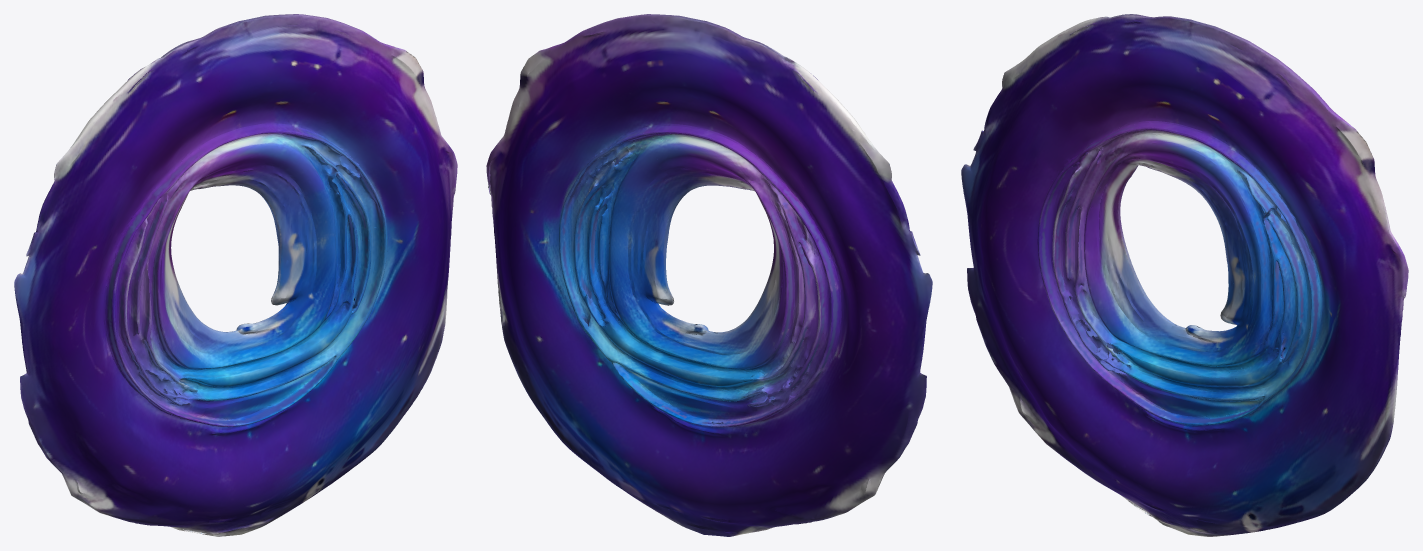
Rendered from portal.glb.
3 renders of one model, left to right at view 1: azimuth 30°, elevation 25°; view 2: azimuth 150°, elevation 25°; view 3: azimuth 330°, elevation 25°, orthographic.
Visible parts, largest first — view 1: model; view 2: model; view 3: model.
Boxes of the visible parts, x1,y1,x2,y2 form: model: [14, 14, 457, 536]; model: [486, 14, 932, 536]; model: [961, 14, 1408, 536].
Bounding box in the file's own units: 1.73 × 1.9 × 0.1978.
Materials: 1 (1 with a texture image).
